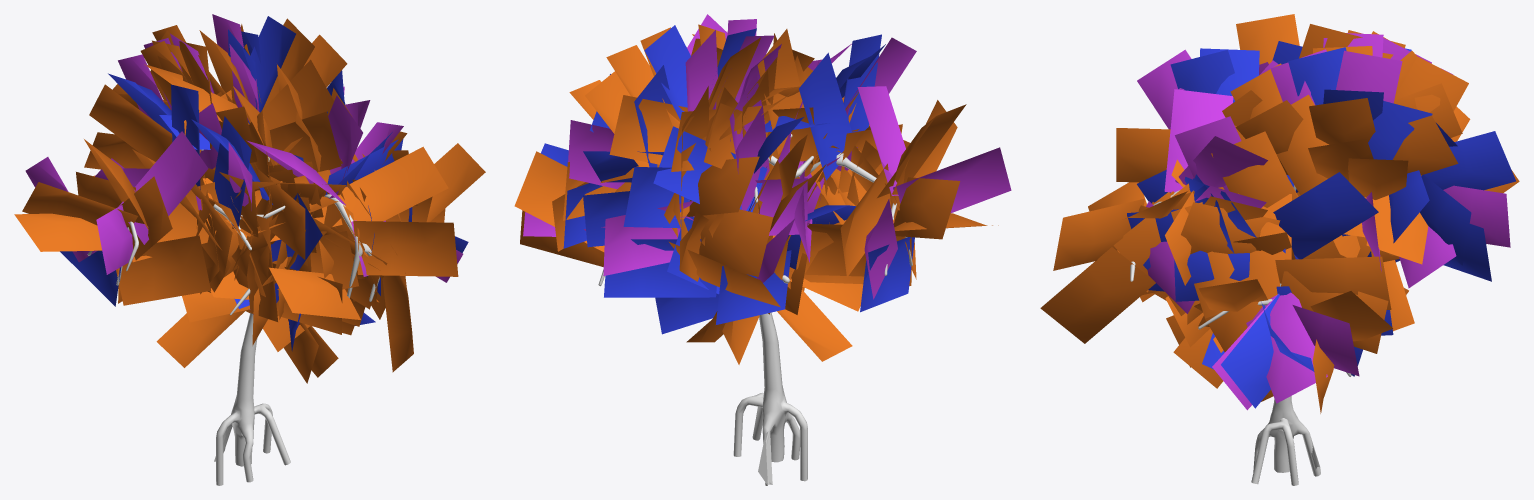
Rendered from swampBoom9.fbx.
3 views of the same model, side by side, from view 1: azimuth 30°, elevation 25°; view 2: azimuth 150°, elevation 25°; view 3: azimuth 270°, elevation 25° (orthographic). The views are drawn at different scales.
Visible parts, largest first — view 1: SwampBoom4_LOD0; view 2: SwampBoom4_LOD0; view 3: SwampBoom4_LOD0.
Part boxes in pixels (bbox=[...]): SwampBoom4_LOD0: bbox=[14, 14, 485, 485]; SwampBoom4_LOD0: bbox=[514, 14, 1011, 485]; SwampBoom4_LOD0: bbox=[1040, 14, 1519, 485].
Size of what is drawn, in the model's own units: 3040 by 2922 by 2832.
